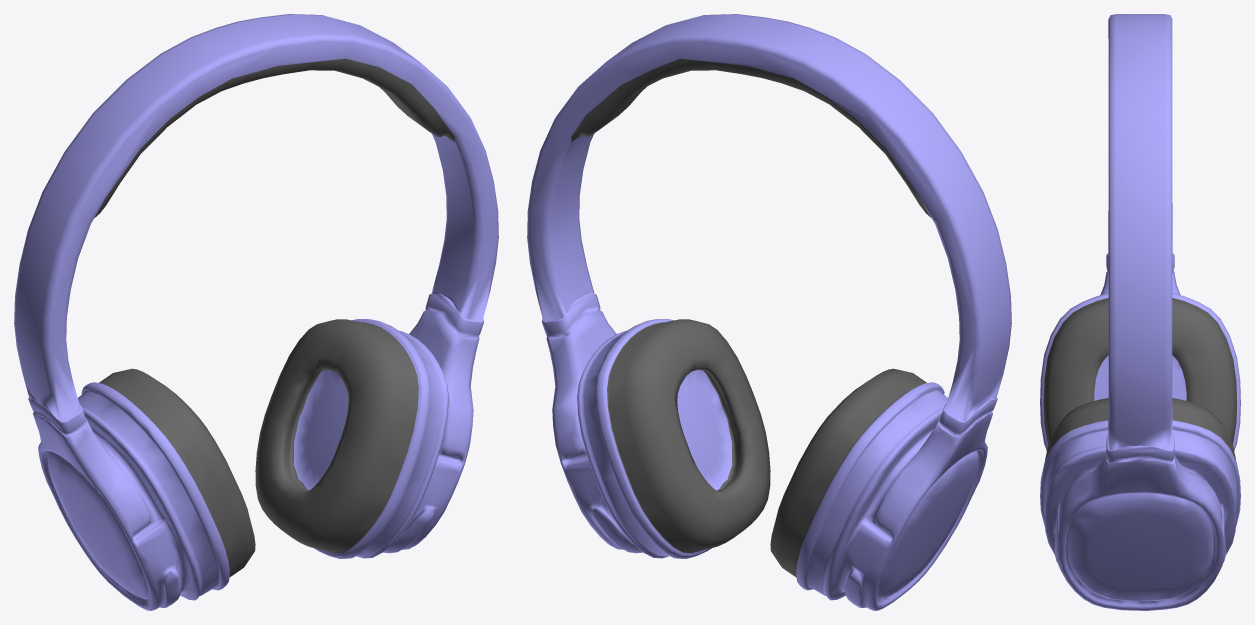
File: headphone.glb
3 views of the same model, side by side, from view 1: azimuth 30°, elevation 25°; view 2: azimuth 150°, elevation 25°; view 3: azimuth 270°, elevation 25° (orthographic). The views are drawn at different scales.
Visible parts, largest first — view 1: pCylinder3; view 2: pCylinder3; view 3: pCylinder3.
Part boxes in pixels (x1,y1,x2,y2): pCylinder3: [14, 14, 498, 610]; pCylinder3: [527, 14, 1011, 610]; pCylinder3: [1040, 14, 1240, 610].
Bounding box in the file's own units: 0.3666 × 0.4147 × 0.1467.
